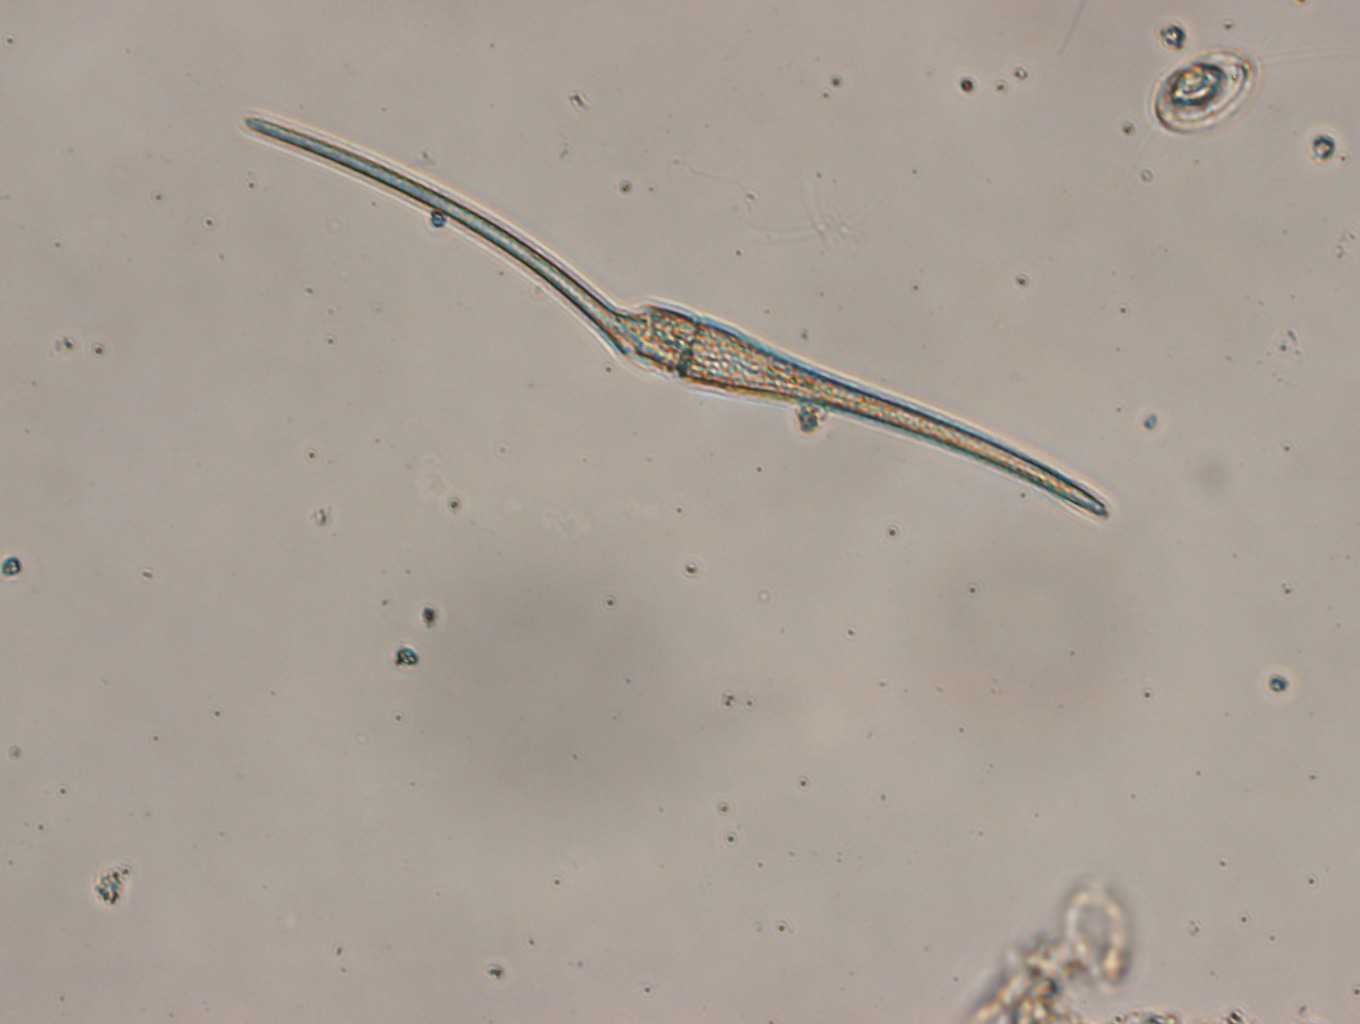ceratium fusus: (243, 120, 1113, 524)
